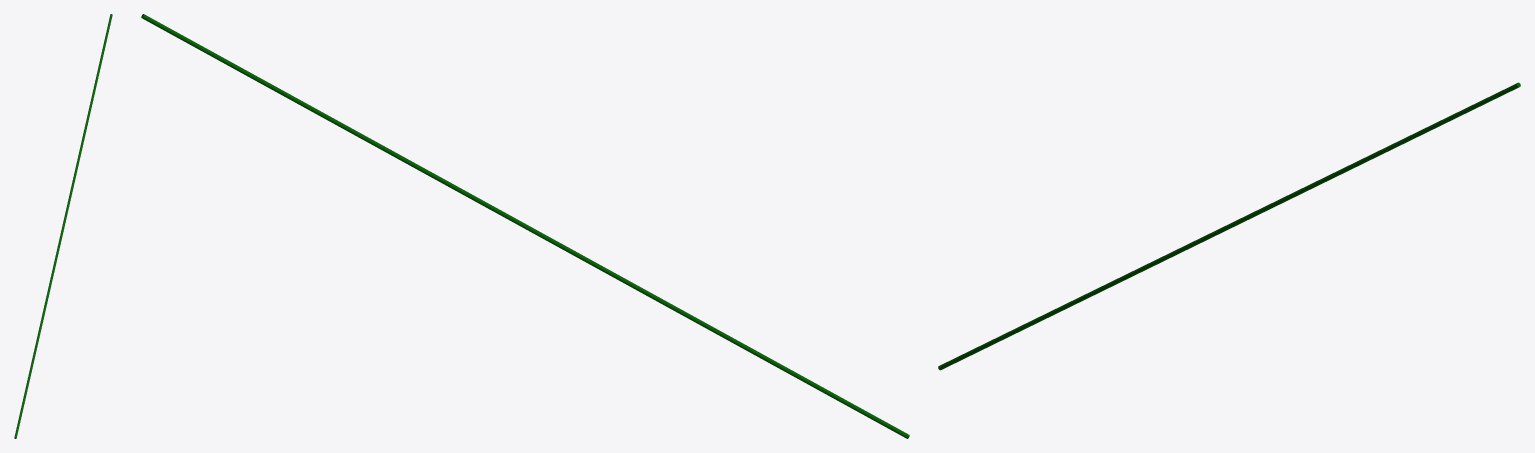
File: Event_105485643_jet_2.fbx
3 views of the same model, side by side, from view 1: azimuth 30°, elevation 25°; view 2: azimuth 150°, elevation 25°; view 3: azimuth 270°, elevation 25° (orthographic). The views are drawn at different scales.
Parts seen in each view (by area): view 1: Model; view 2: Model; view 3: Model.
Boxes of the visible parts, bbox=[...] form: Model: bbox=[14, 14, 112, 438]; Model: bbox=[141, 14, 909, 438]; Model: bbox=[938, 82, 1520, 370].
Size of the model in its own units: 4.74 by 4.87 by 4.93.
